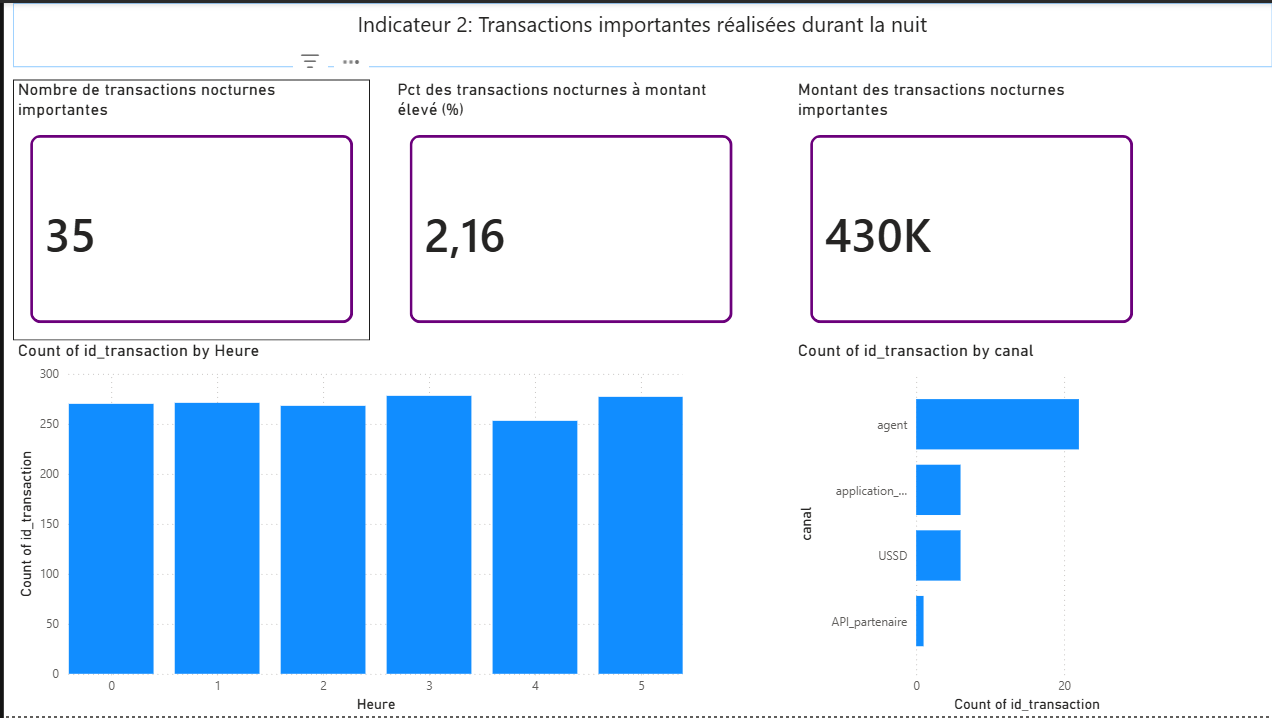

This screenshot's page, from the dashboard's own definition file:
{"tool":"powerbi","page":{"name":"Indicateur_2","canvas":[1280,720],"ordinal":3},"visuals":[{"type":"textbox","box":[9.5,0,1271.1,64.7],"z":0},{"type":"cardVisual","title":"Nombre de transactions nocturnes importantes","fields":{"Data":["dataset_fraude_benin.Nb_transactions_nocturnes_importantes"]},"box":[9.1,77.2,360.4,263.5],"z":1},{"type":"cardVisual","title":"Pct des transactions nocturnes à montant élevé (%)","fields":{"Data":["dataset_fraude_benin.Pct_transactions_nocturnes_importantes"]},"box":[392.2,77.2,360.4,263.5],"z":2},{"type":"cardVisual","title":"Montant des transactions nocturnes importantes","fields":{"Data":["dataset_fraude_benin.Montant_transactions_nocturnes_importantes"]},"box":[796.5,77.2,360.4,263.5],"z":3},{"type":"clusteredColumnChart","fields":{"Category":["dataset_fraude_benin.Heure"],"Y":["CountNonNull(dataset_fraude_benin.id_transaction)"]},"box":[8.4,340,681.3,379.1],"z":4},{"type":"clusteredBarChart","fields":{"Category":["dataset_fraude_benin.canal"],"Y":["CountNonNull(dataset_fraude_benin.id_transaction)"]},"box":[796,340,360,379],"z":5}]}

Visuals, with their boxes in screenshot pixels (x1, y1, x2, y2), scaled from the page's 1280x720 canvas onto the 1272x718 screenshot:
textbox: Rect(9, 0, 1271, 65)
"Nombre de transactions nocturnes importantes" cardVisual: Rect(9, 77, 367, 340)
"Pct des transactions nocturnes à montant élevé (%)" cardVisual: Rect(390, 77, 748, 340)
"Montant des transactions nocturnes importantes" cardVisual: Rect(792, 77, 1150, 340)
clusteredColumnChart - dataset_fraude_benin.Heure x CountNonNull(dataset_fraude_benin.id_transaction): Rect(8, 339, 685, 717)
clusteredBarChart - dataset_fraude_benin.canal x CountNonNull(dataset_fraude_benin.id_transaction): Rect(791, 339, 1149, 717)
